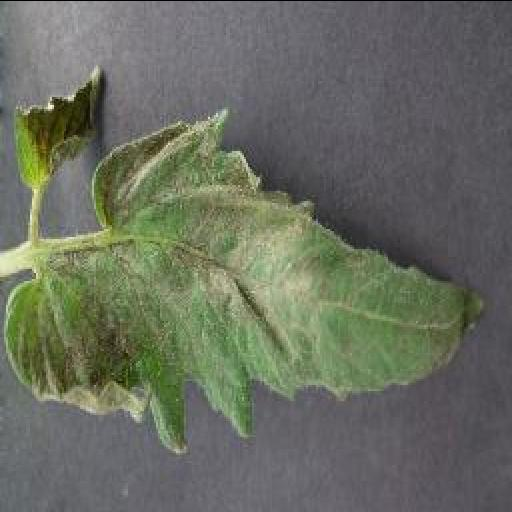disease_tomato: (0, 116, 488, 458), (10, 68, 112, 190)
